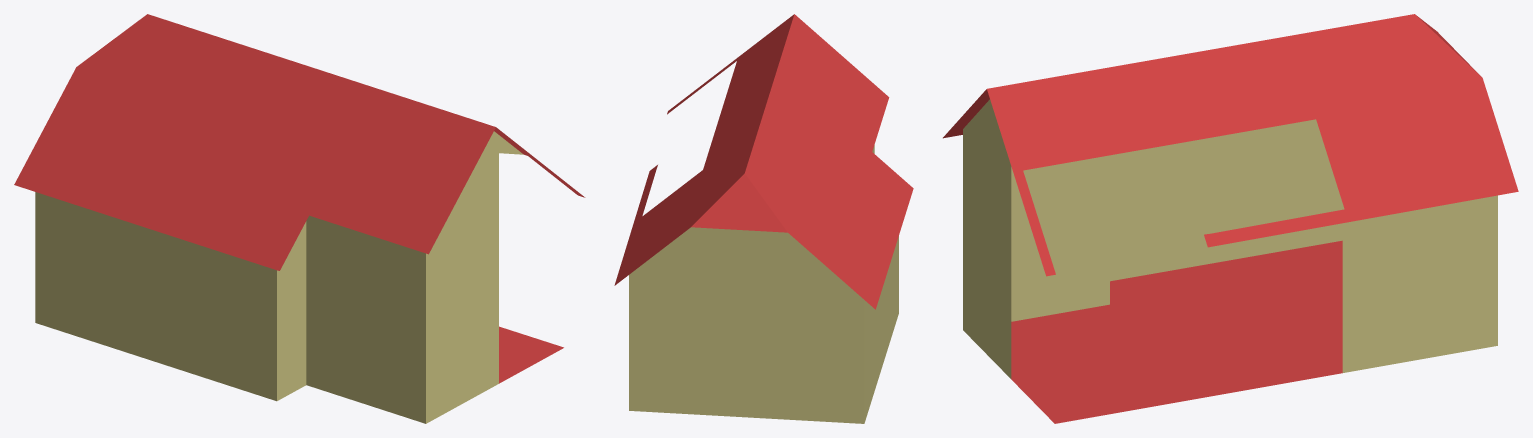
3 renders of one model, left to right at view 1: azimuth 30°, elevation 25°; view 2: azimuth 150°, elevation 25°; view 3: azimuth 270°, elevation 25°, orthographic. The views are drawn at different scales.
Bounding box in the file's own units: 23.2 × 27.06 × 14.68.
